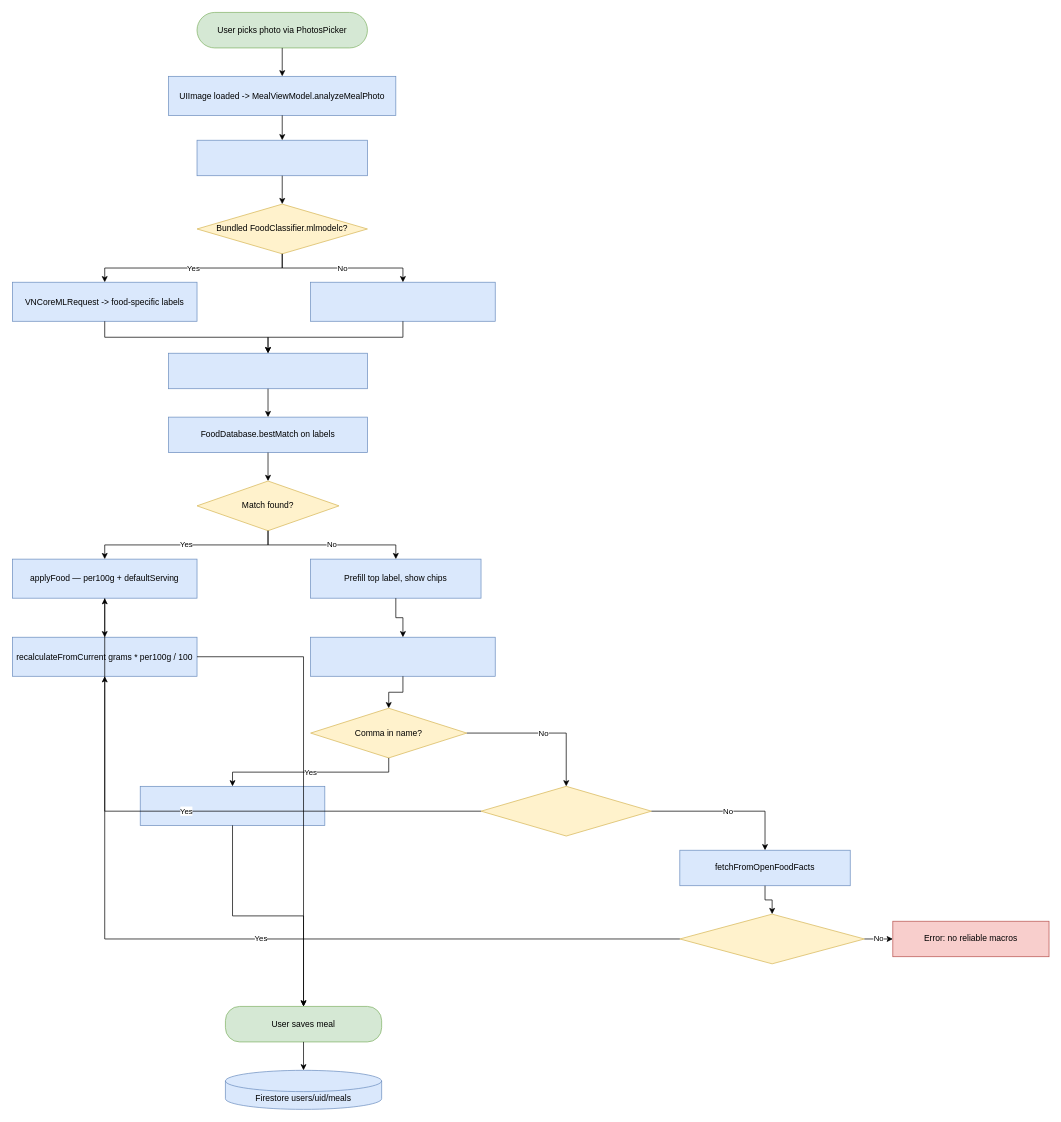
The diagram is 1061 pixels wide and 1122 high, and some of its shapes have lost their labels. The box of each missing label's shape, as (x1, y1, x2, y2) in pixels:
calculateBowlMacros parse, look up, sum: (140, 786, 325, 825)
FoodClassifier.classify: (196, 140, 367, 176)
Name in FoodDatabase?: (480, 786, 651, 836)
OFF returns product with kcal_100g > 0?: (679, 913, 864, 964)
Top 15 ClassifiedFood: (168, 353, 367, 389)
User taps a chip OR types name + Calculate: (310, 637, 495, 676)
VNClassifyImageRequest -> generic labels: (310, 282, 495, 321)
